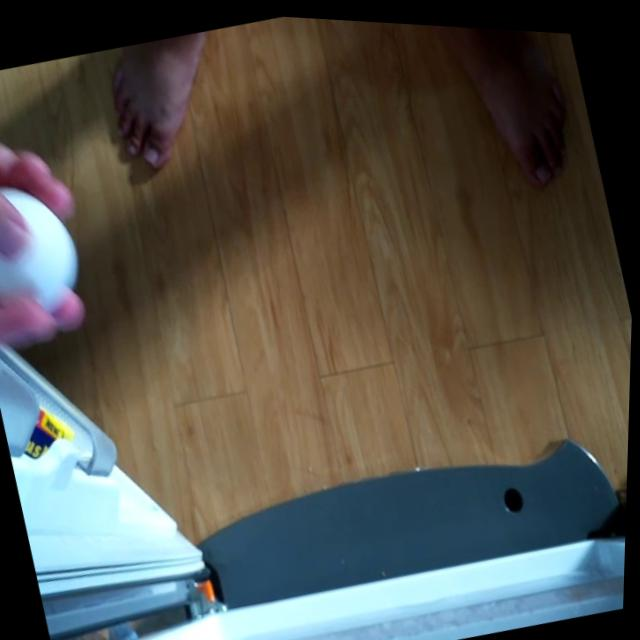egg: (0, 168, 90, 329)
